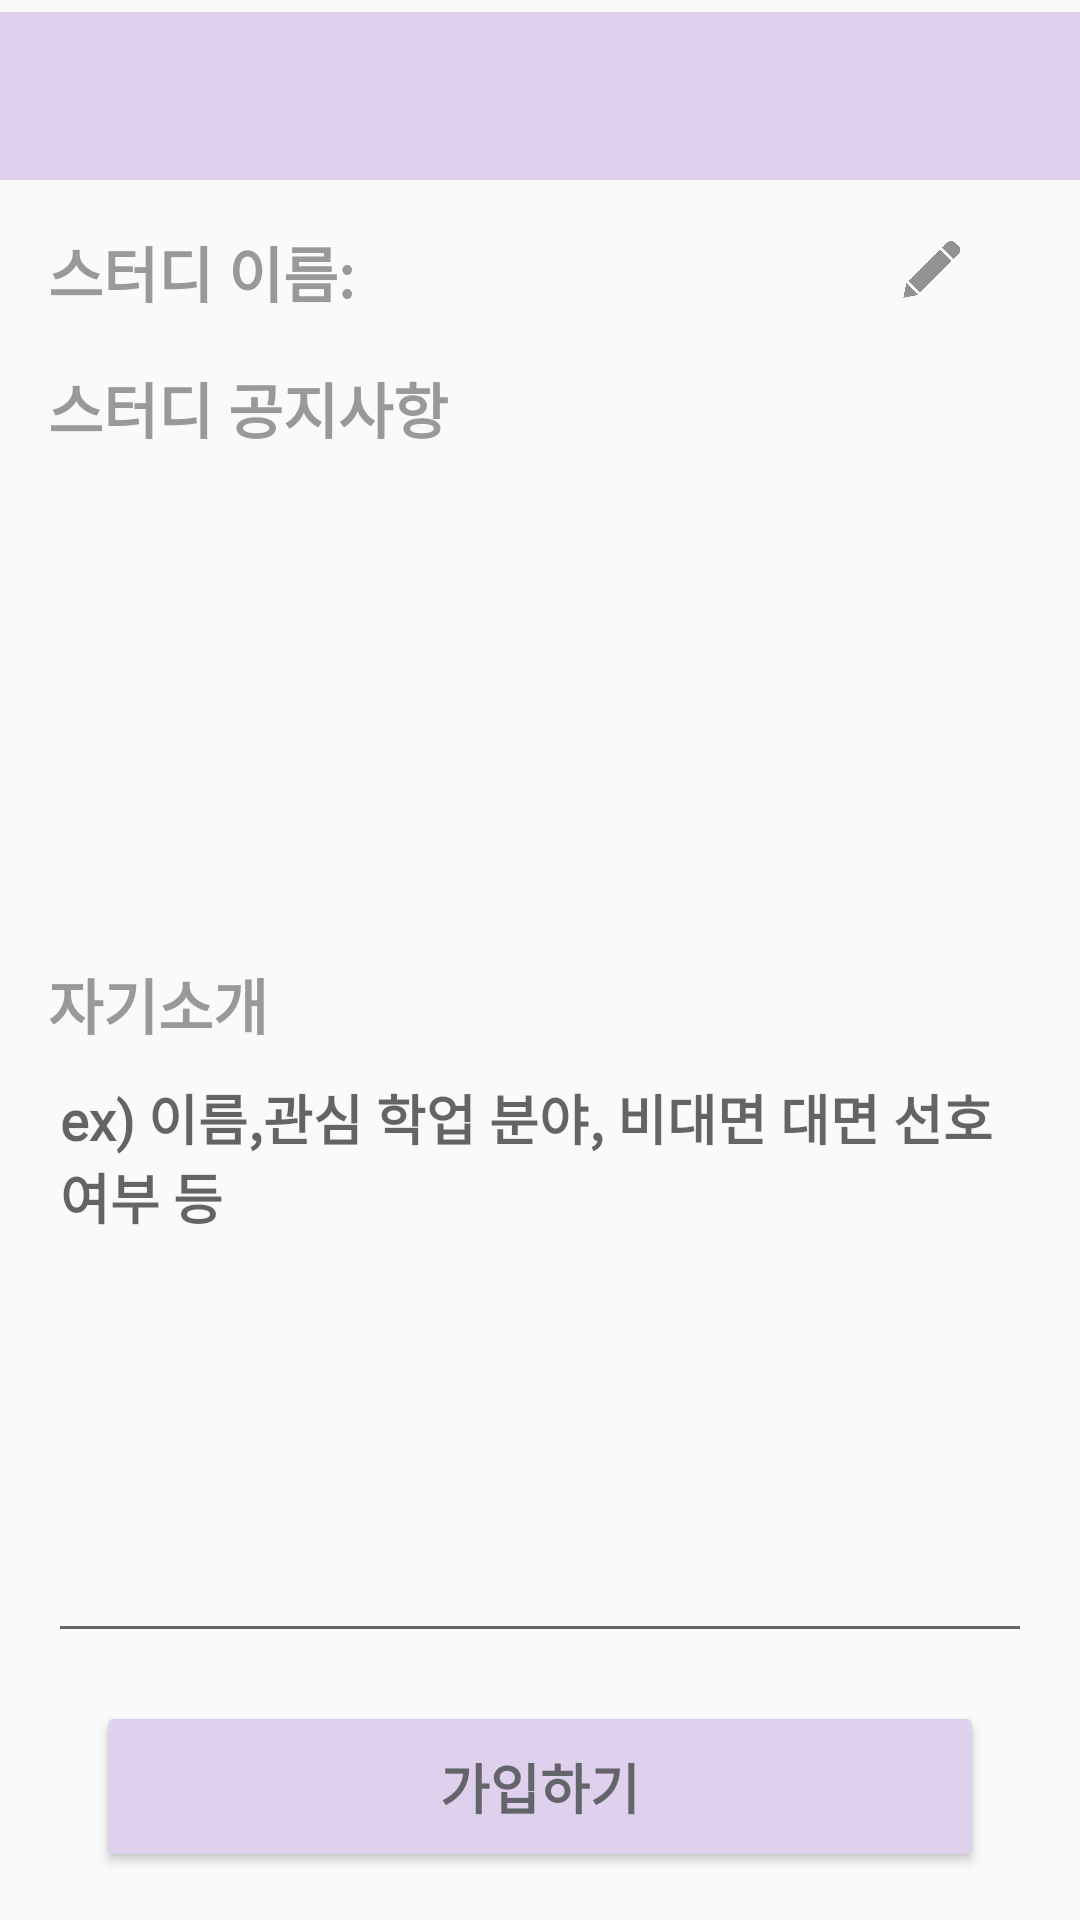

Screen size 1080w x 1920h. Icon name, then its center in pixels as [x,y]:
pen: [931,269]
